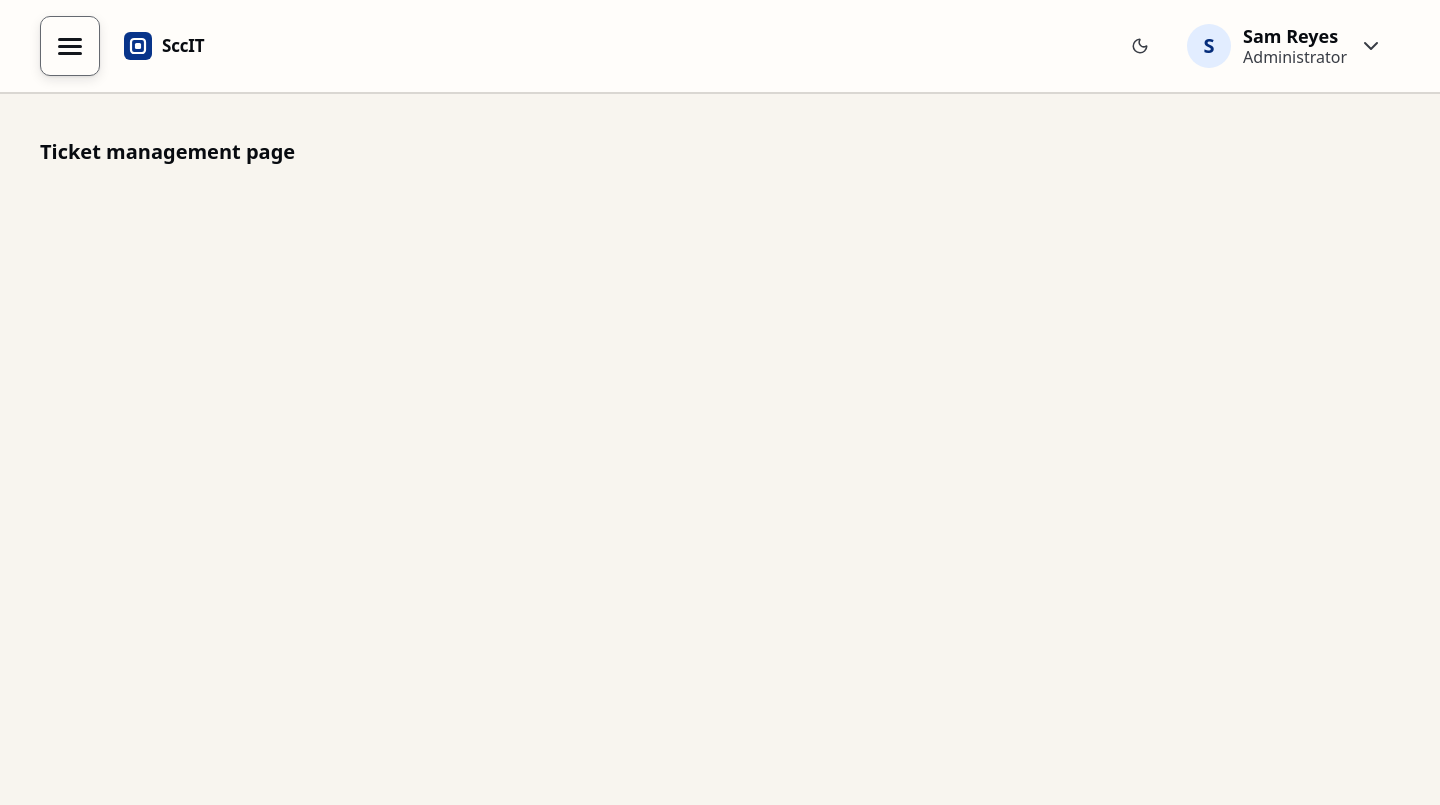
Test case: the navigation inside it › does not light up "Tickets" on the Ticket management page
The image size is (1440, 805).
Click the button named "open navigation menu" at (70, 46), box [40,16,100,76]
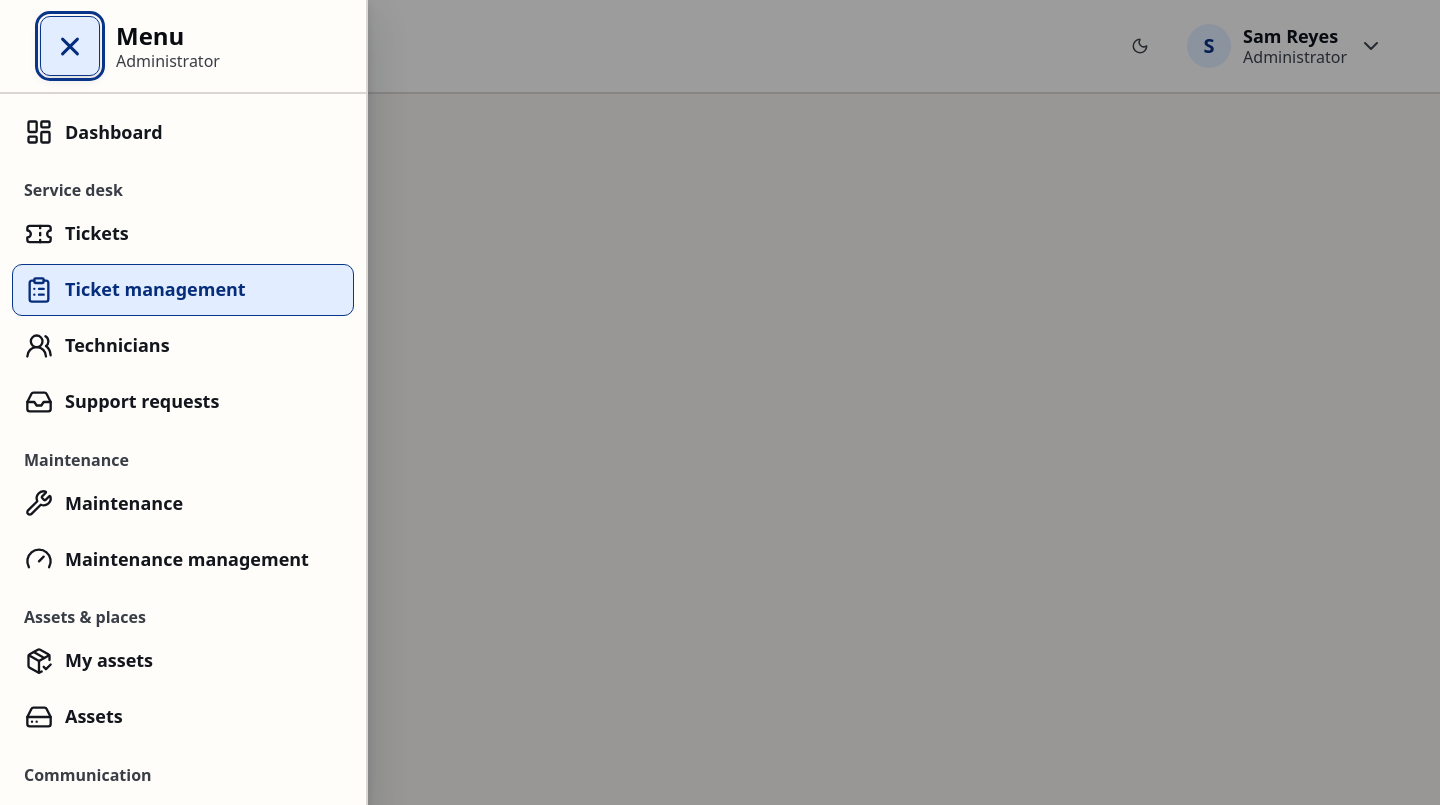
Expected: the links read "Ticket management", in this order, [12,264,354,316]
